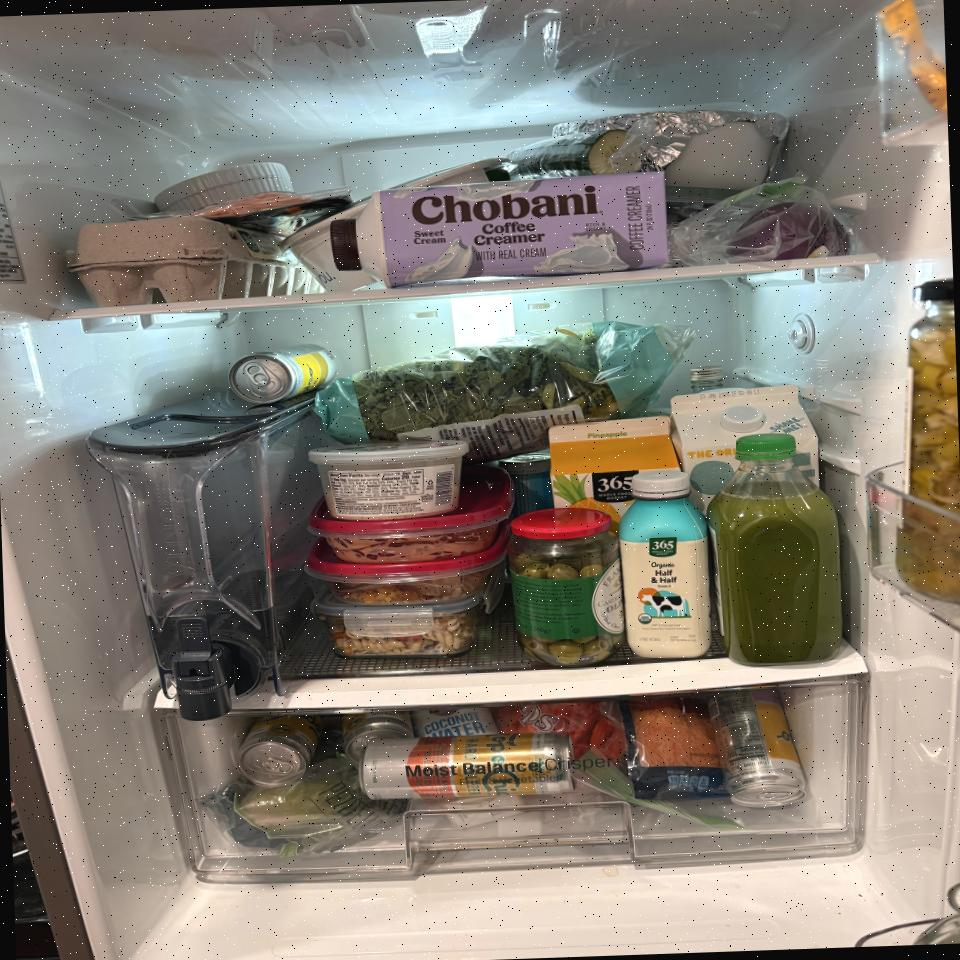Huevos: (69, 213, 325, 308)
